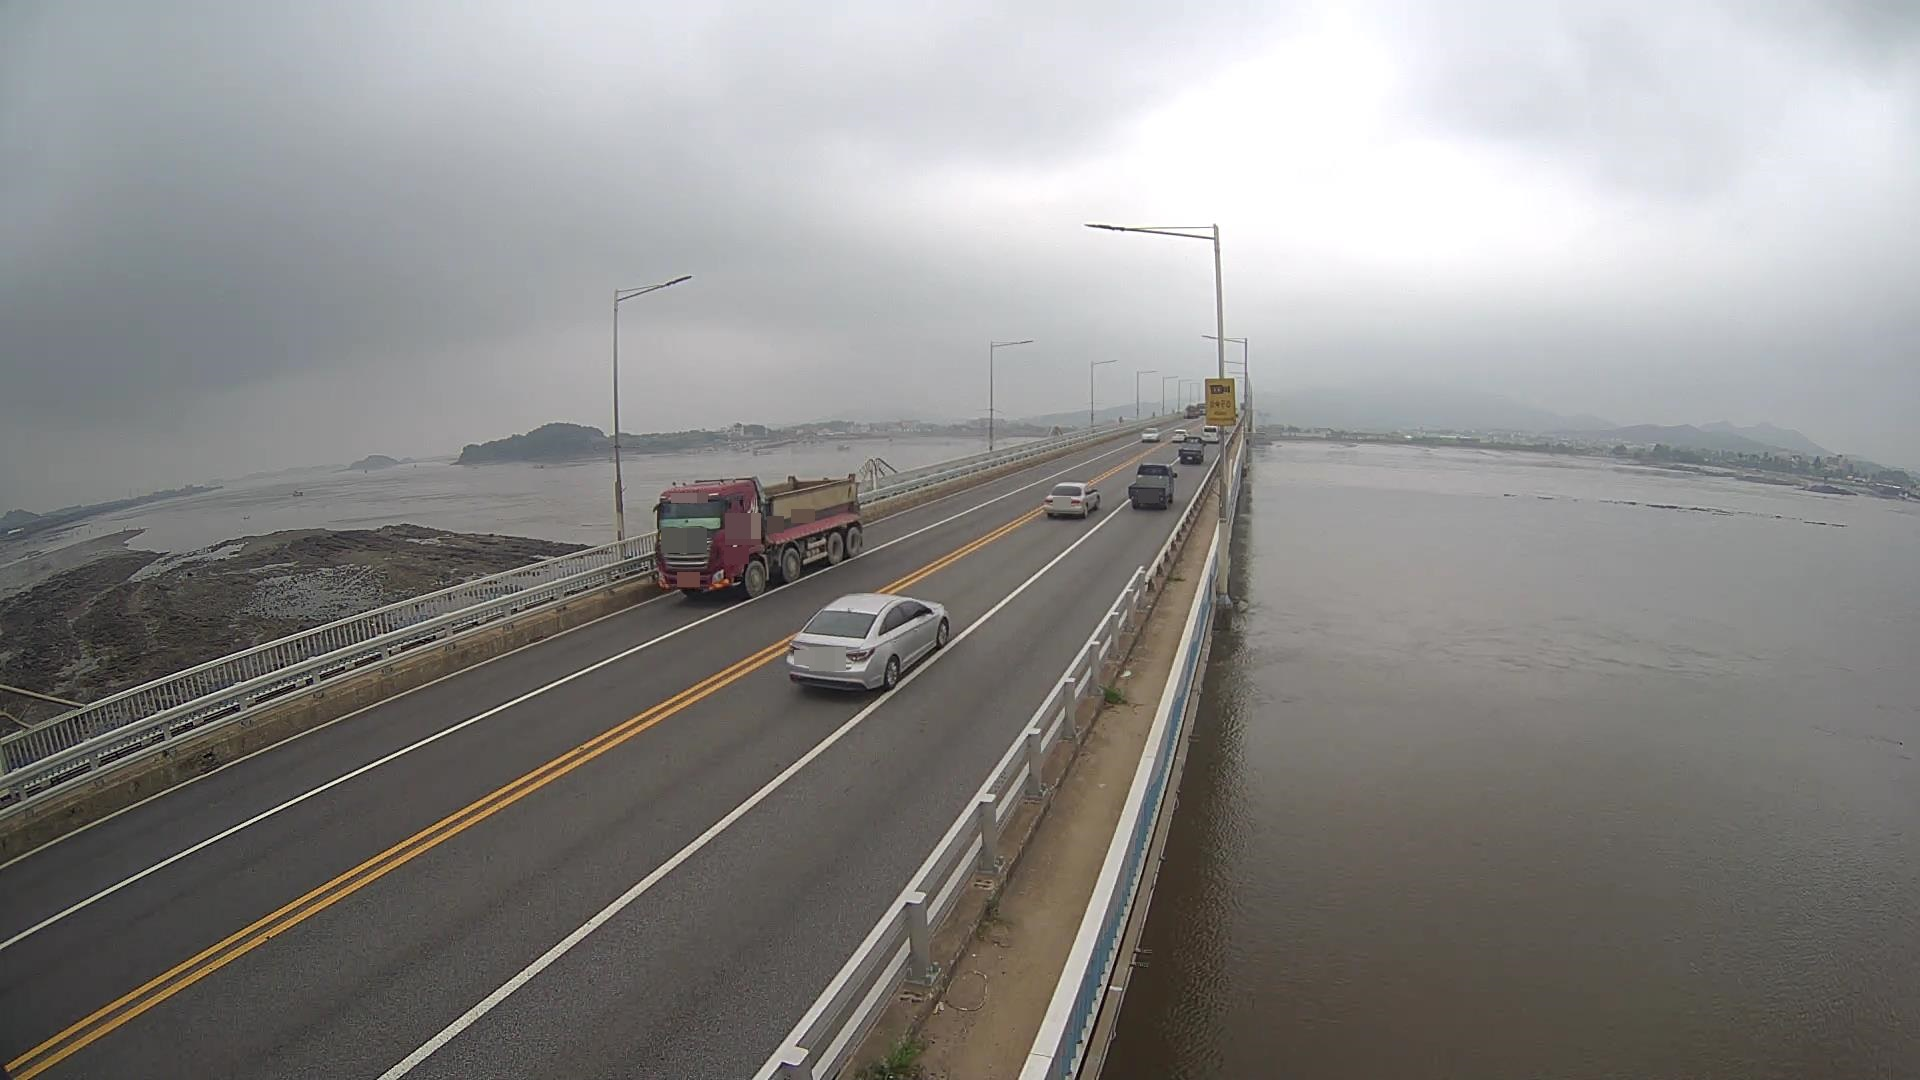정상차량: (653, 473, 864, 597)
